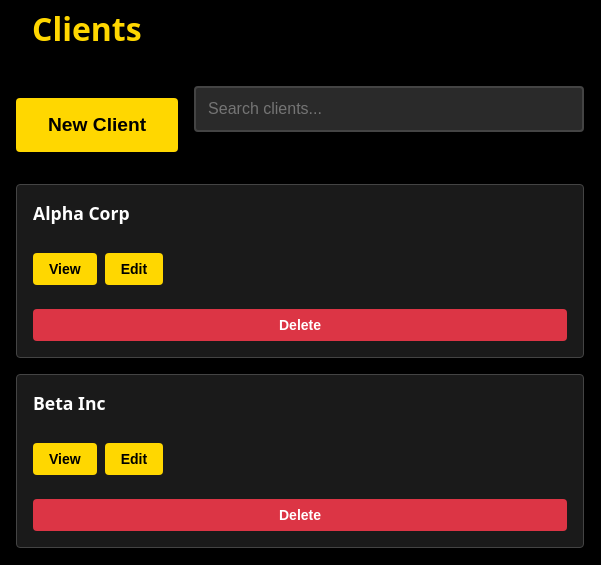
Test: ClientList › filters clients by search
Expected: the text "Alpha Corp" is shown, [33, 201, 130, 225]
Expected: the text "Beta Inc" is shown, [33, 391, 106, 415]
Type "Alpha" into the field with placeholder "Search clients..." at (389, 109), box [194, 86, 584, 132]
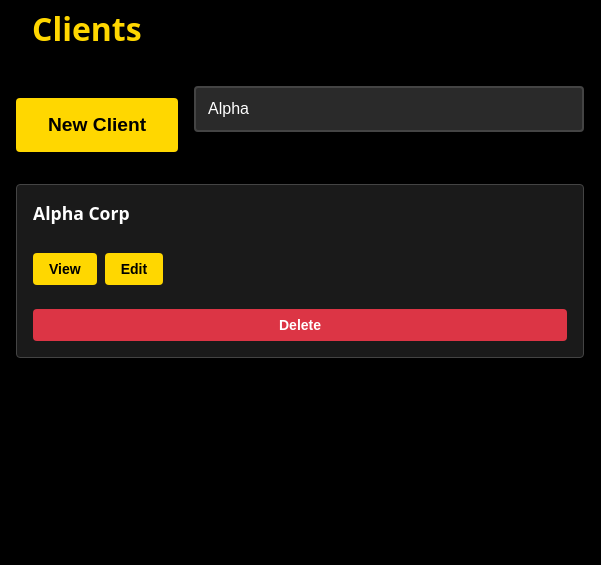
Expected: the text "Alpha Corp" is shown, [33, 201, 130, 225]
Expected: the text "Beta Inc" is gone
